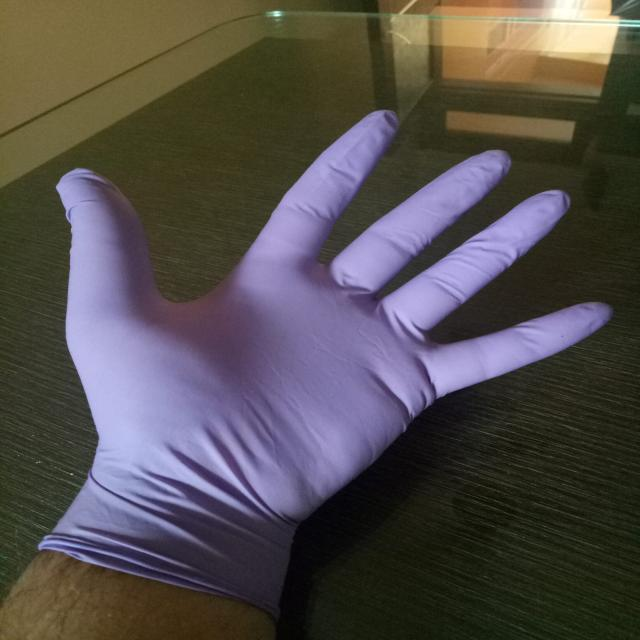Boots: (32, 65, 621, 611)
